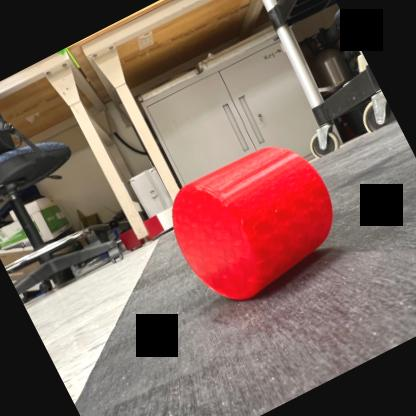red cylinder: (152, 125, 359, 318)
